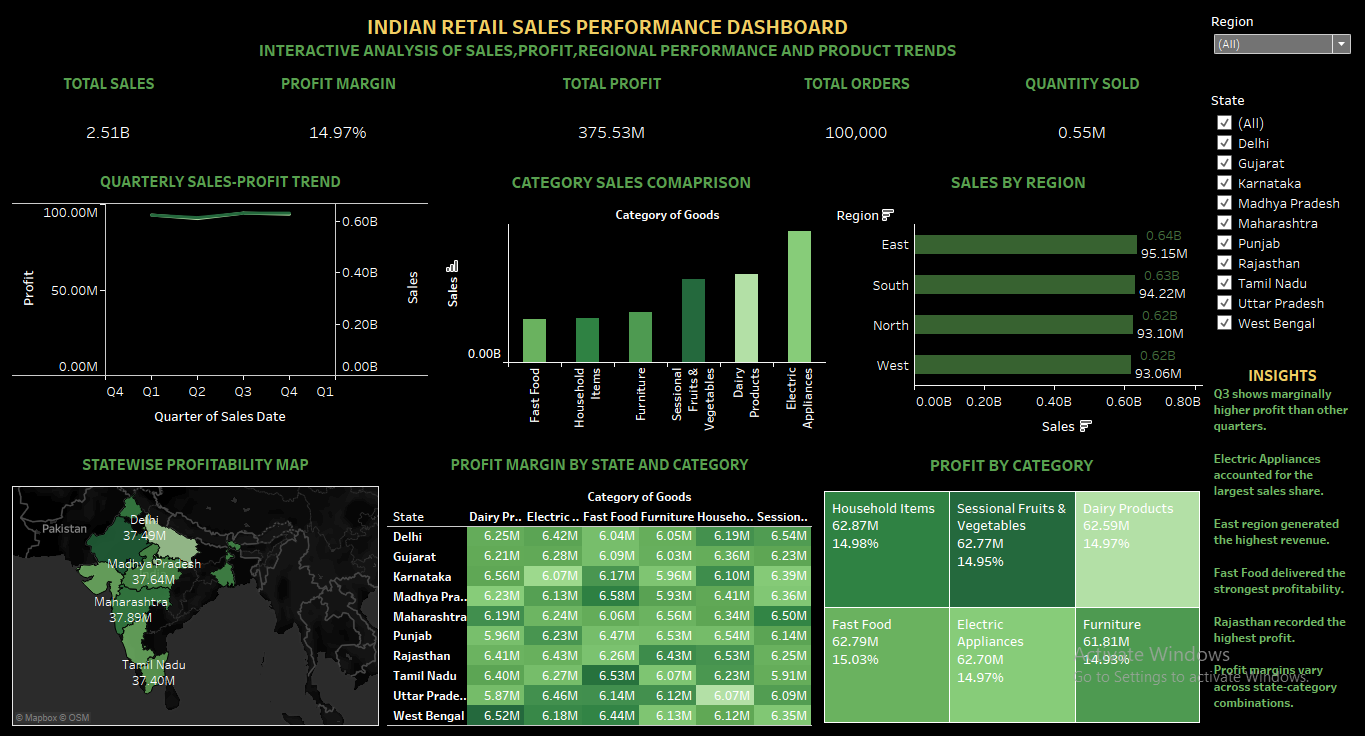

What the dashboard file says about the page in this screenshot:
{"tool":"tableau","page":{"name":"INDIAN SALES PERFORMANCE DASHBOARD","canvas":[1000,1000],"units":"permille","ordinal":0},"visuals":[{"type":"title","box":[5.9,10.8,877.7,77.2]},{"type":"filter","title":"SALES BY REGION","param":"[federated.0muur5d0kcckg71a2tnpc1ia7r6d].[none:Region:nk]","box":[883.6,10.8,110.5,107]},{"type":"worksheet","title":"Total Revenue","mark":"Automatic","box":[5.9,88.1,148.1,132.4]},{"type":"worksheet","title":"Total Profit","mark":"Automatic","box":[153.9,88.1,133.2,132.4]},{"type":"worksheet","title":"Profit Margin %","mark":"Automatic","box":[287.1,88.1,149.9,132.4]},{"type":"worksheet","title":"Total Orders","mark":"Automatic","box":[437,88.1,159.6,132.4]},{"type":"worksheet","title":"Avg. Order","mark":"Automatic","box":[596.6,88.1,141.3,132.4]},{"type":"worksheet","title":"Quantity Sold","mark":"Automatic","box":[737.9,88.1,145.8,132.4]},{"type":"filter","title":"SALES BY REGION","param":"[federated.0muur5d0kcckg71a2tnpc1ia7r6d].[none:State:nk]","box":[883.6,117.9,110.5,128.7]},{"type":"worksheet","title":"QUARTERLY SALES TREND","mark":"Automatic","rows":["Profit","Sales"],"cols":["Sales Date"],"box":[5.9,220.5,310.9,383.4]},{"type":"worksheet","title":"CATEGORY SALES","mark":"Automatic","rows":["Sales"],"cols":["Category of Goods"],"box":[316.7,220.5,290.6,383.4]},{"type":"worksheet","title":"SALES BY REGION","mark":"Automatic","rows":["Region"],"cols":["Sales"],"box":[607.3,220.5,276.3,383.4]},{"type":"text","box":[883.6,246.6,110.5,550.1]},{"type":"worksheet","title":"STATE-PROFIT MAP","mark":"Automatic","box":[5.9,603.9,274.3,385.2]},{"type":"worksheet","title":"PROFIT MARGIN BY STATE AND CATEGORY","mark":"Square","rows":["State"],"cols":["Category of Goods"],"box":[280.2,603.9,317,385.2]},{"type":"worksheet","title":"PROFIT BY CATEGORY","mark":"Automatic","box":[597.2,603.9,286.4,385.2]}]}

Visuals, with their boxes on the dashboard's canvas, which has no fixed pixel size, in thousandths of its width and height (x1, y1, x2, y2). These are canvas units, not pixel positions in the 1365x736 screenshot, which may show the page scaled, cropped or inside an application window:
title: [left=6, top=11, right=884, bottom=88]
"SALES BY REGION" filter: [left=884, top=11, right=994, bottom=118]
"Total Revenue" worksheet: [left=6, top=88, right=154, bottom=220]
"Total Profit" worksheet: [left=154, top=88, right=287, bottom=220]
"Profit Margin %" worksheet: [left=287, top=88, right=437, bottom=220]
"Total Orders" worksheet: [left=437, top=88, right=597, bottom=220]
"Avg. Order" worksheet: [left=597, top=88, right=738, bottom=220]
"Quantity Sold" worksheet: [left=738, top=88, right=884, bottom=220]
"SALES BY REGION" filter: [left=884, top=118, right=994, bottom=247]
"QUARTERLY SALES TREND" worksheet: [left=6, top=220, right=317, bottom=604]
"CATEGORY SALES" worksheet: [left=317, top=220, right=607, bottom=604]
"SALES BY REGION" worksheet: [left=607, top=220, right=884, bottom=604]
text: [left=884, top=247, right=994, bottom=797]
"STATE-PROFIT MAP" worksheet: [left=6, top=604, right=280, bottom=989]
"PROFIT MARGIN BY STATE AND CATEGORY" worksheet (Square marks): [left=280, top=604, right=597, bottom=989]
"PROFIT BY CATEGORY" worksheet: [left=597, top=604, right=884, bottom=989]
